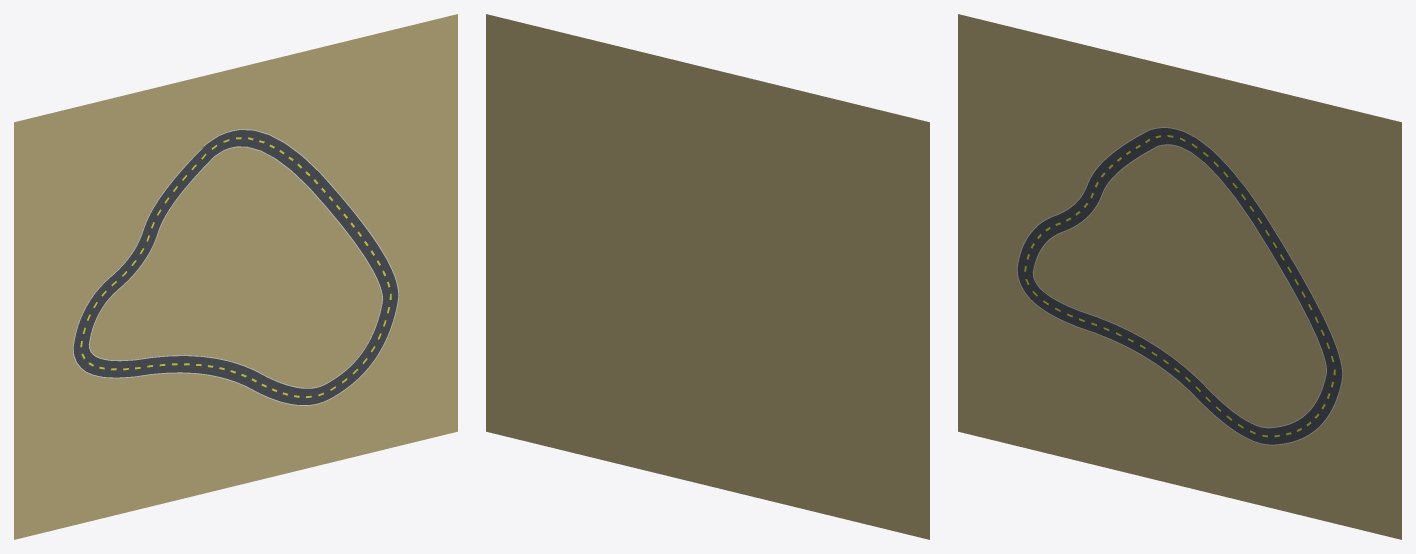
Rendered from track.obj.
3 renders of one model, left to right at view 1: azimuth 30°, elevation 25°; view 2: azimuth 150°, elevation 25°; view 3: azimuth 330°, elevation 25°, orthographic.
Bounding box in the file's own units: 23.22 × 20.87 × 0.0025.
Materials: 4 (4 with a texture image).
